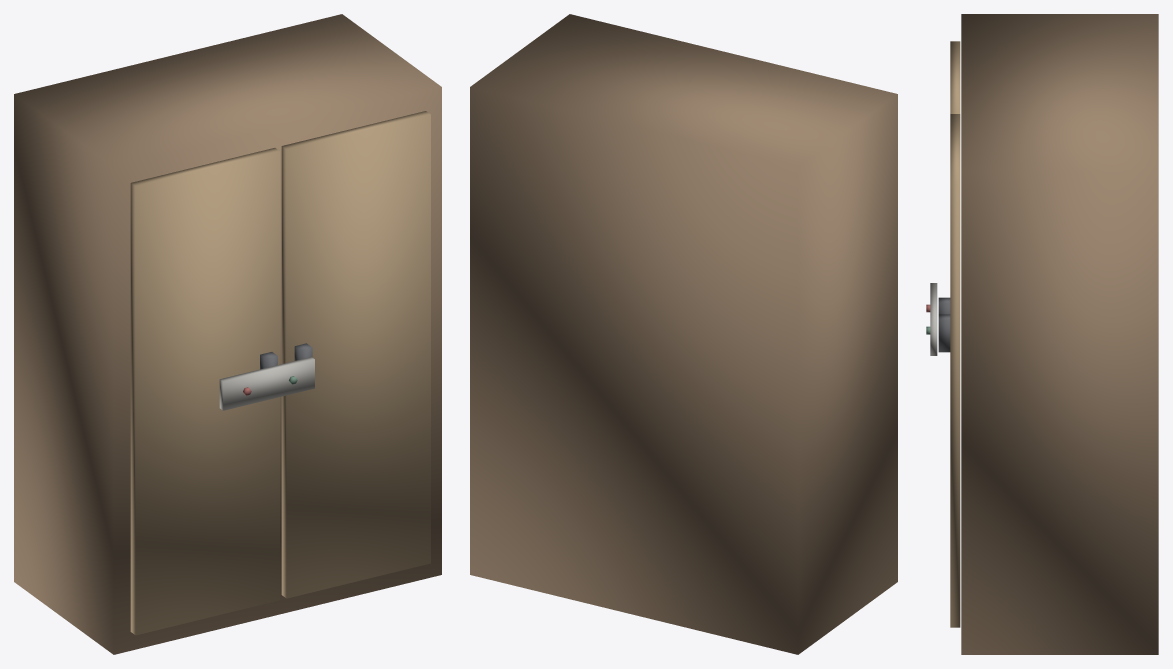
File: tv_stand.glb
3 renders of one model, left to right at view 1: azimuth 30°, elevation 25°; view 2: azimuth 150°, elevation 25°; view 3: azimuth 270°, elevation 25°, orthographic.
Parts seen in each view (by area): view 1: world; view 2: world; view 3: world.
Part boxes in pixels (x1,y1,x2,y2): world: [14, 14, 441, 654]; world: [470, 14, 897, 654]; world: [926, 14, 1158, 654].
Bounding box in the file's own units: 0.95 × 1.35 × 0.5885.
